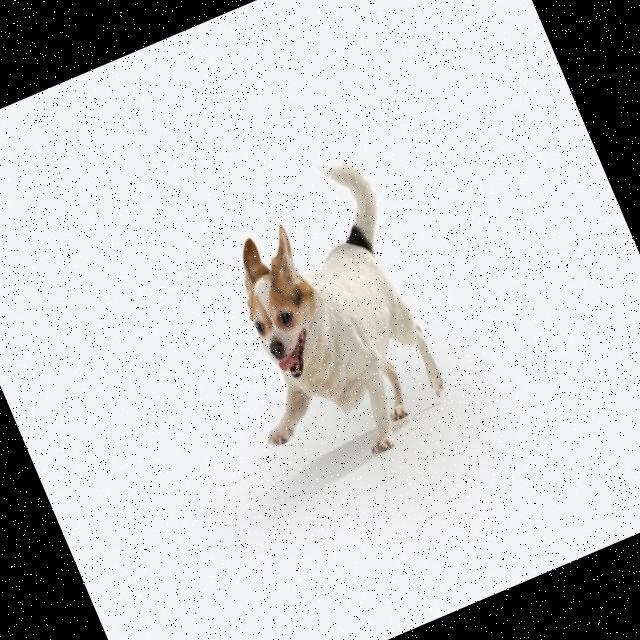Dog: (178, 152, 469, 489)
